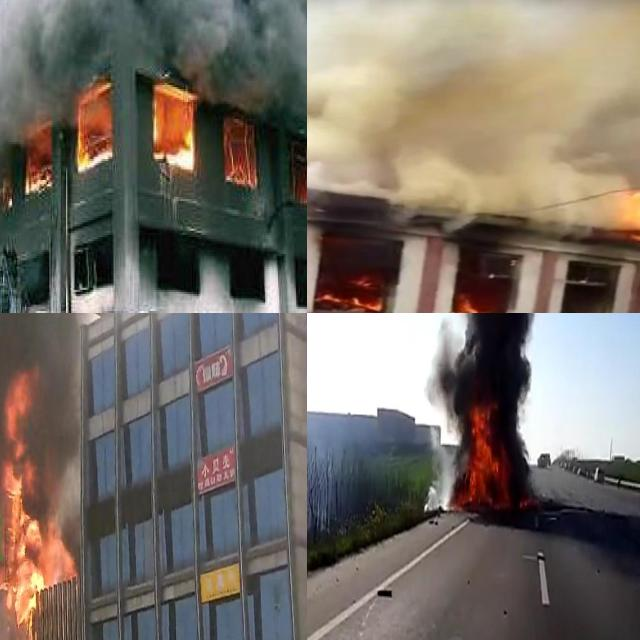fire: (0, 377, 76, 640), (453, 409, 535, 513), (151, 74, 196, 168), (74, 77, 114, 165), (222, 110, 258, 184), (319, 272, 386, 310), (22, 114, 54, 190), (615, 187, 640, 244), (452, 291, 501, 313)
smoke: (307, 0, 640, 206), (0, 0, 98, 192), (163, 0, 307, 103), (423, 313, 548, 408), (0, 313, 85, 441)
